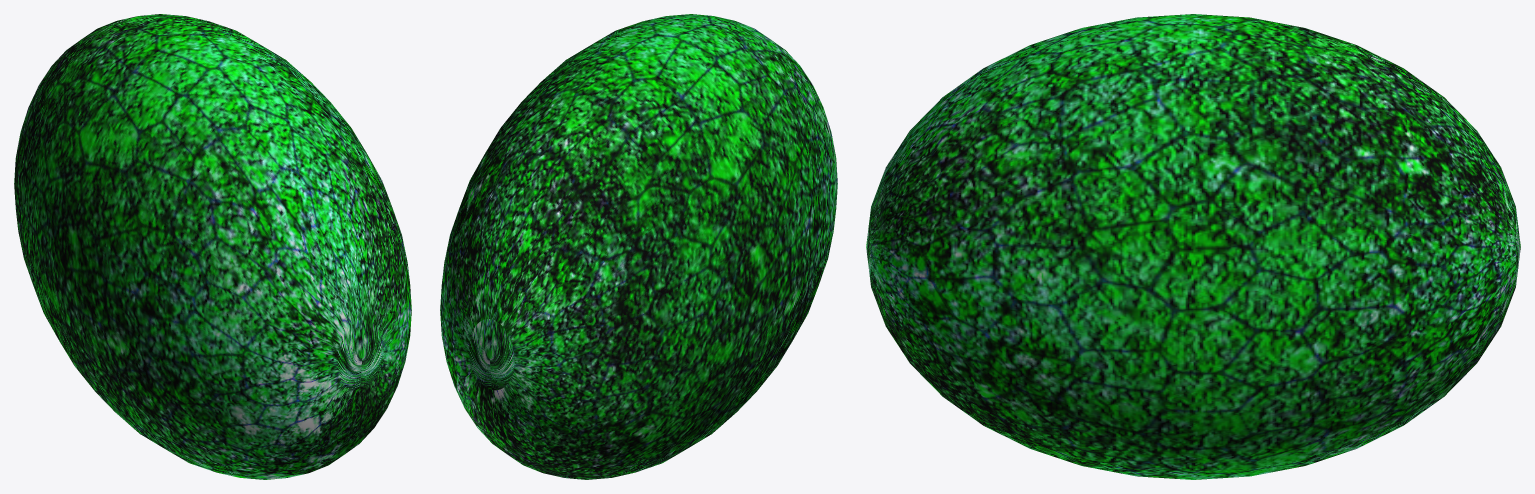
File: ZolonShieldC2.fbx
3 views of the same model, side by side, from view 1: azimuth 30°, elevation 25°; view 2: azimuth 150°, elevation 25°; view 3: azimuth 270°, elevation 25° (orthographic). The views are drawn at different scales.
Visible parts, largest first — view 1: ZolonShieldC2; view 2: ZolonShieldC2; view 3: ZolonShieldC2.
Boxes of the visible parts, left/top/right/bottom form: ZolonShieldC2: left=14, top=14, right=411, bottom=479; ZolonShieldC2: left=440, top=14, right=837, bottom=479; ZolonShieldC2: left=866, top=14, right=1520, bottom=479.
Size of the model in its own units: 1546 by 2290 by 3045.
